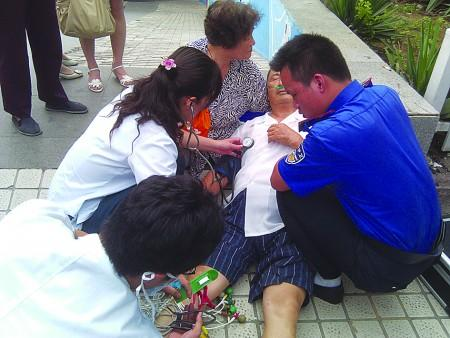fall: (182, 47, 320, 332)
